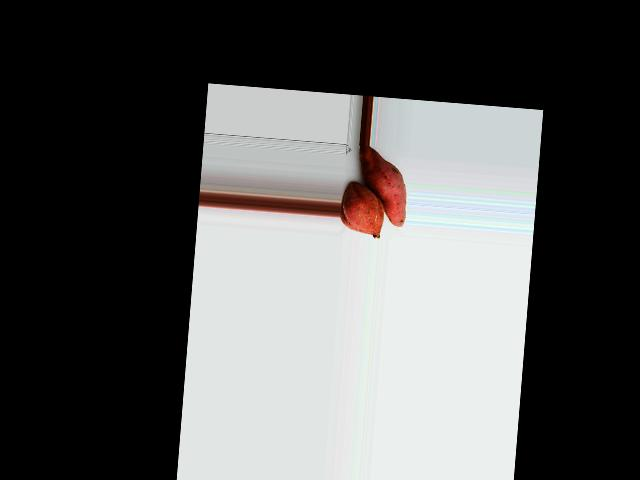sweet_potato: (344, 184, 382, 239)
